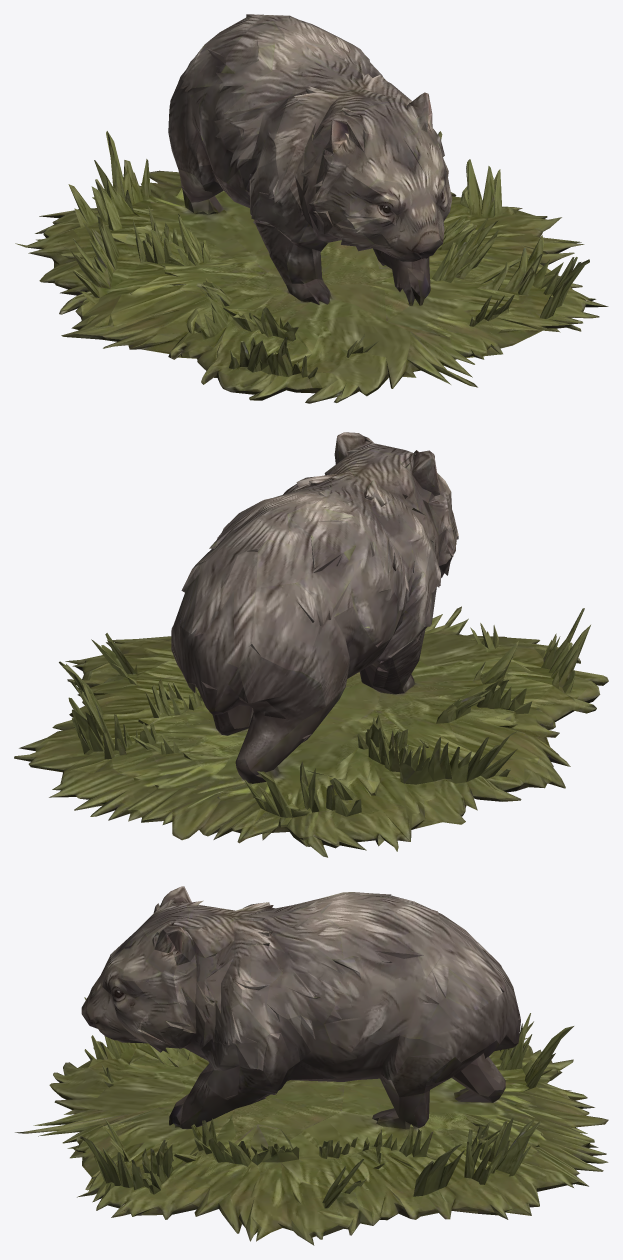
Rendered from wombat.glb.
The picture shows the model from 3 angles, top to bottom: view 1: azimuth 30°, elevation 25°; view 2: azimuth 150°, elevation 25°; view 3: azimuth 270°, elevation 25°; orthographic projection. The views are drawn at different scales.
Bounding box in the file's own units: 1.8 × 0.808 × 1.91.
Materials: 1 (1 with a texture image).
